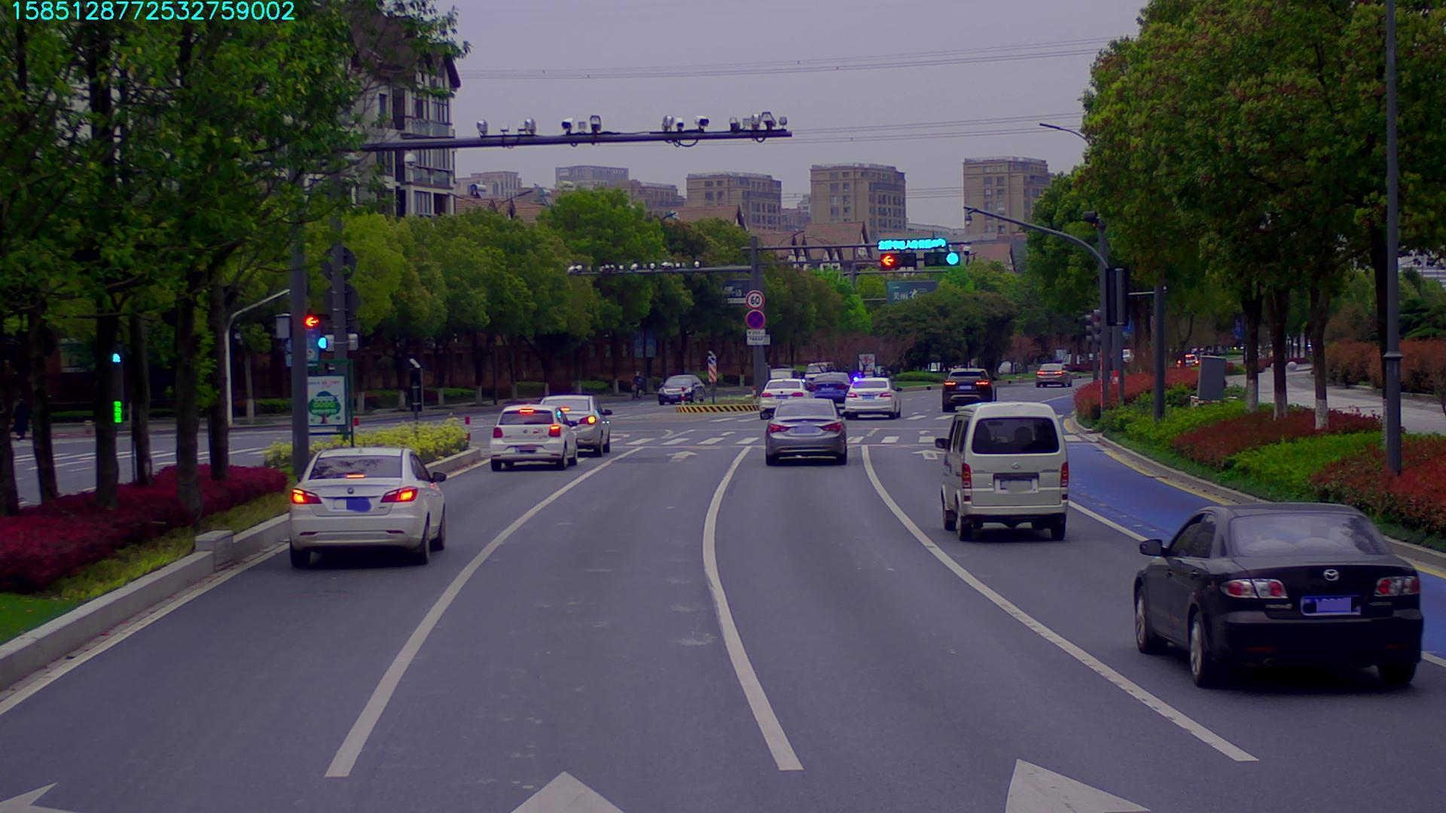green: (924, 251, 962, 268)
red: (879, 255, 914, 266)
wait_on: (875, 238, 946, 250)
